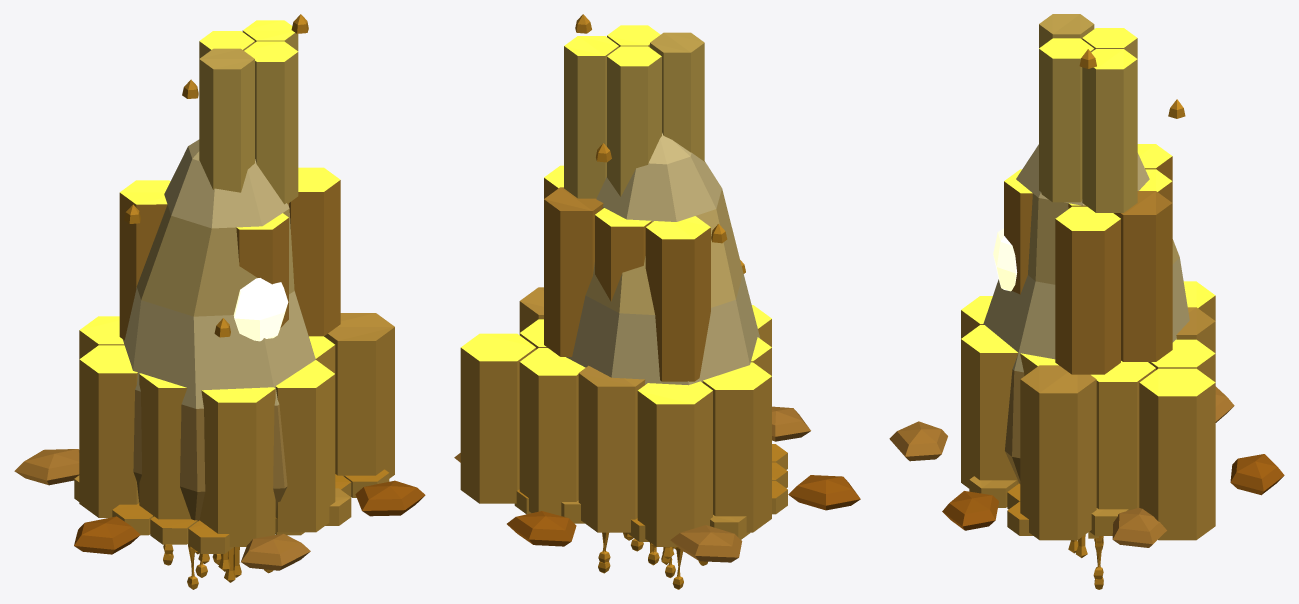
Rendered from hive.glb.
The picture shows the model from 3 angles, left to right: view 1: azimuth 30°, elevation 25°; view 2: azimuth 150°, elevation 25°; view 3: azimuth 270°, elevation 25°; orthographic projection.
Visible parts, largest first — view 1: hive_comb_tower_a, hive_royal_cell_a; view 2: hive_comb_tower_a, hive_royal_cell_a, hive_honey_overflow_b; view 3: hive_comb_tower_a, hive_royal_cell_a.
Part boxes in pixels (x1,y1,x2,y2): hive_comb_tower_a: (14, 14, 425, 570); hive_royal_cell_a: (74, 139, 389, 553); hive_comb_tower_a: (454, 14, 860, 562); hive_royal_cell_a: (514, 133, 787, 541); hive_honey_overflow_b: (598, 532, 707, 589); hive_comb_tower_a: (889, 14, 1284, 547); hive_royal_cell_a: (969, 144, 1189, 535).
Size of the model in its own units: 2.25 by 3.39 by 2.19.
